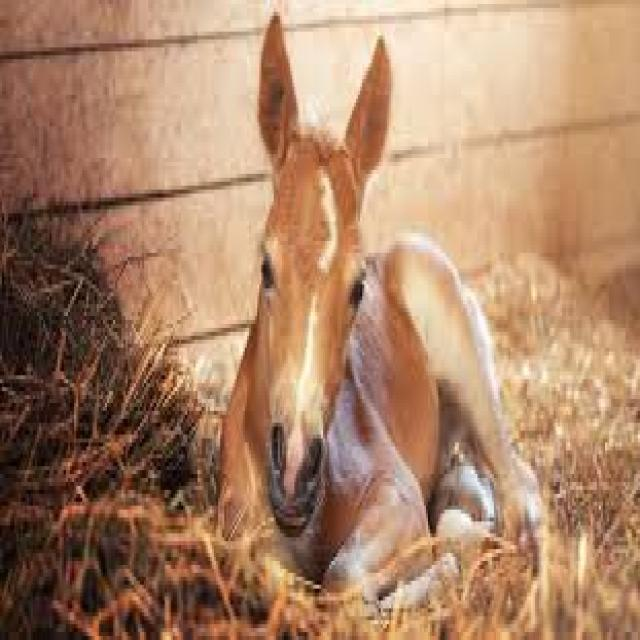Horse: (211, 23, 514, 600)
